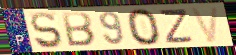9: (98, 10, 126, 46)
B: (60, 11, 97, 48)
O: (125, 8, 163, 47)
S: (28, 10, 64, 50)
V: (189, 6, 221, 44)
Z: (159, 8, 195, 45)
